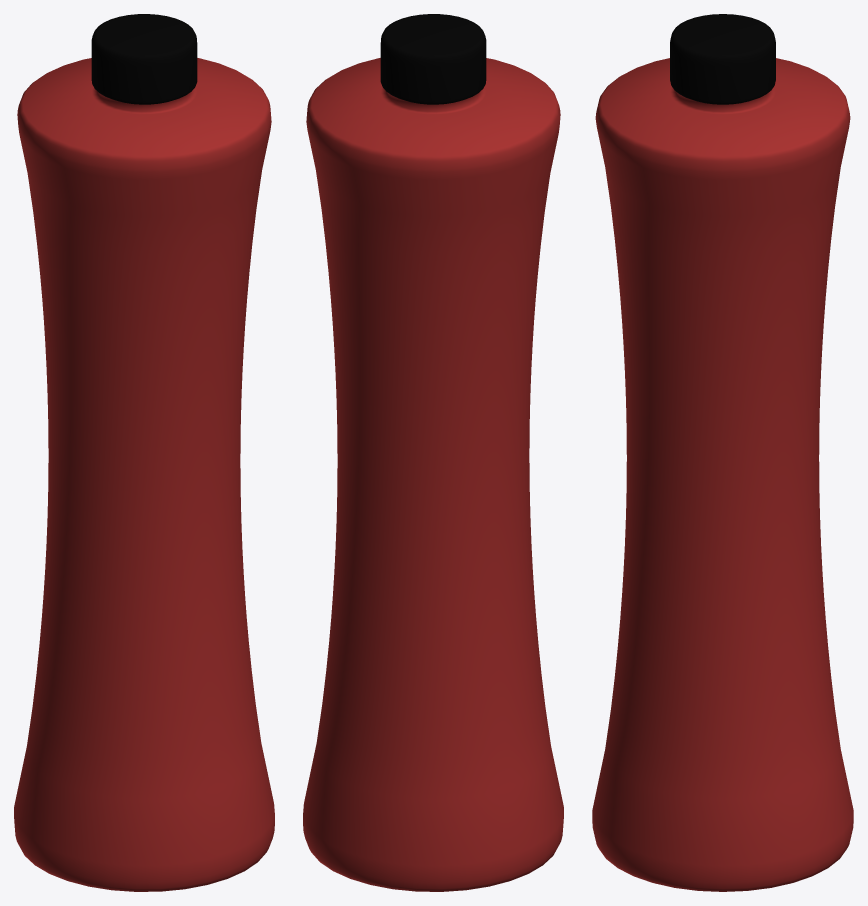
File: bottle.gltf
3 renders of one model, left to right at view 1: azimuth 30°, elevation 25°; view 2: azimuth 150°, elevation 25°; view 3: azimuth 270°, elevation 25°, orthographic.
Parts seen in each view (by area): view 1: Cylinder; view 2: Cylinder; view 3: Cylinder.
Part boxes in pixels (<box>): Cylinder: <box>14,14,274,891</box>; Cylinder: <box>303,14,563,891</box>; Cylinder: <box>592,14,853,891</box>.
Bounding box in the file's own units: 1.21 × 4.1 × 1.21.
